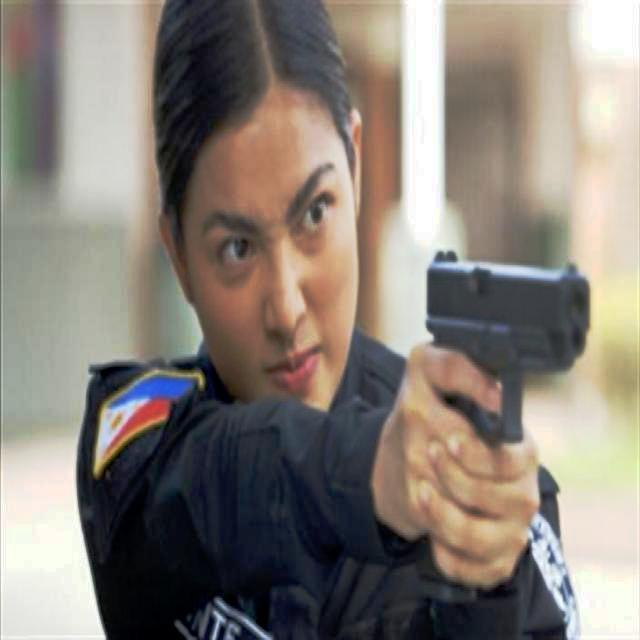Gun: (423, 225, 592, 463)
